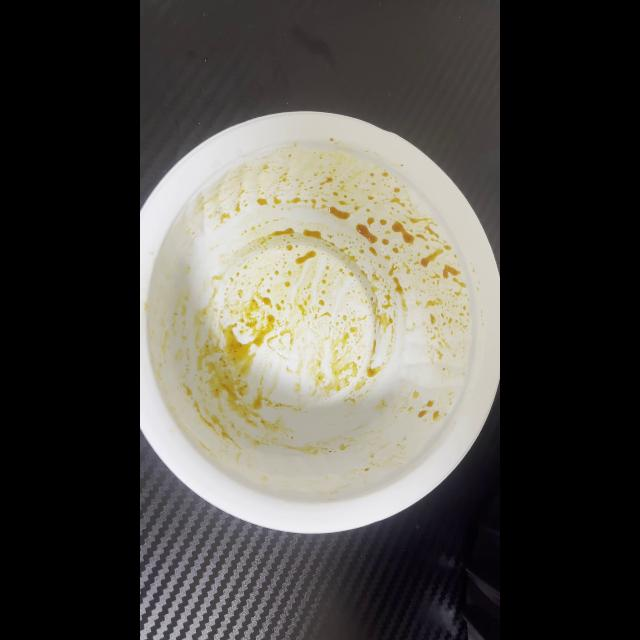dirty: (140, 112, 496, 526)
